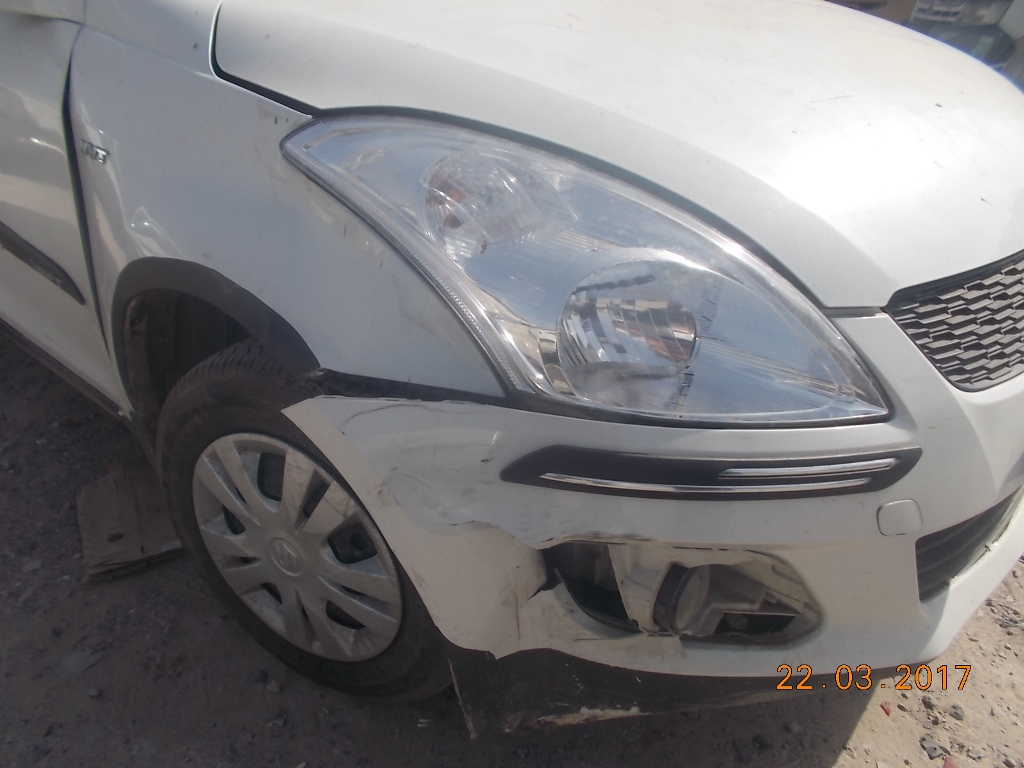Tear: (516, 567, 567, 608)
